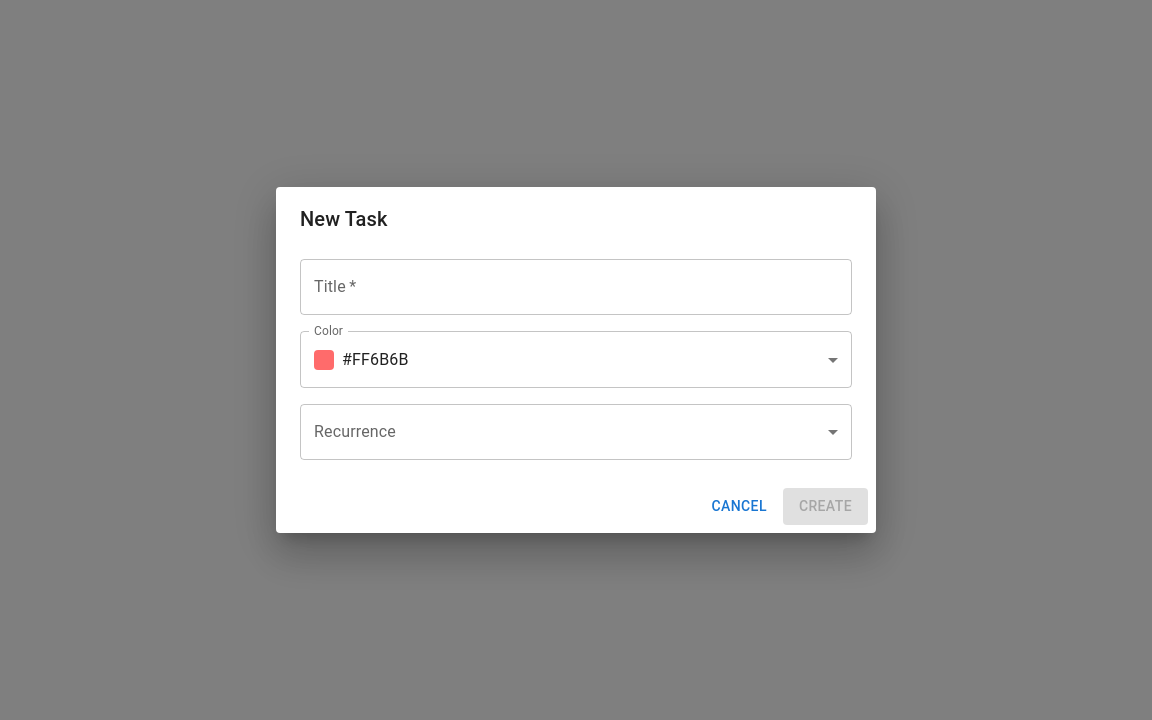
Test: TaskDialog › handles recurrence options correctly
The image size is (1152, 720).
Step 1. Press the mouse on the dropdown named "Recurrence" → (576, 432), box [300,404,852,460]
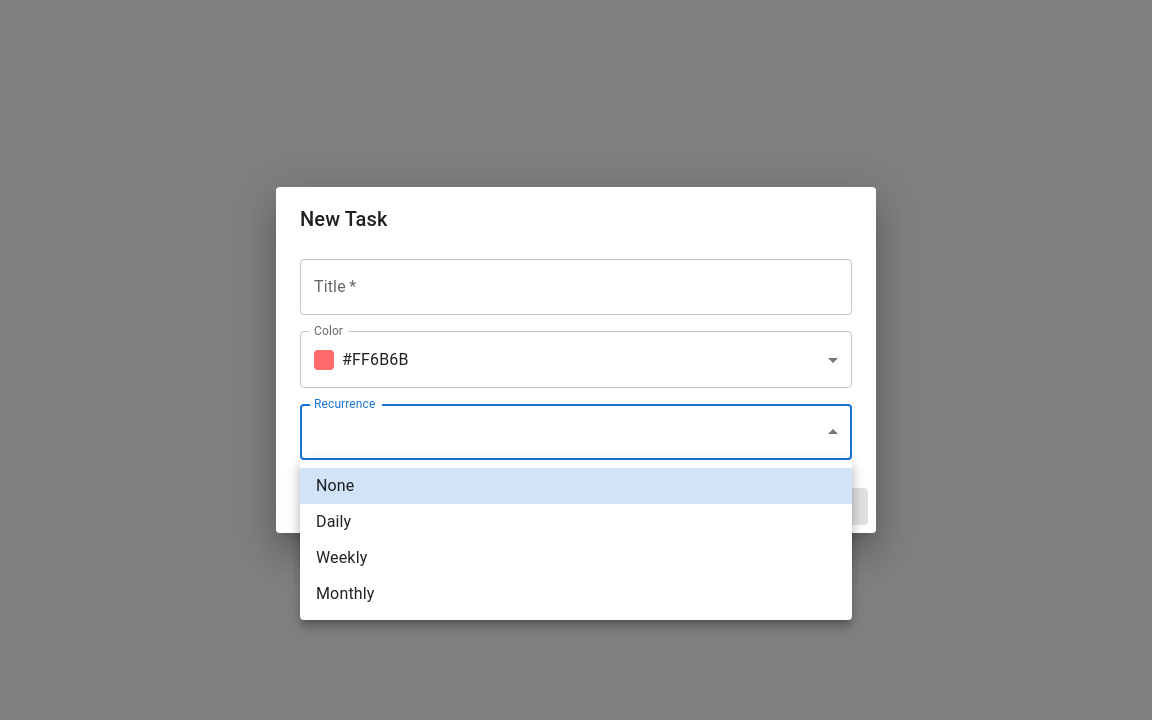
Step 2. Click the option "Weekly" → (342, 558), box [316,548,367,567]
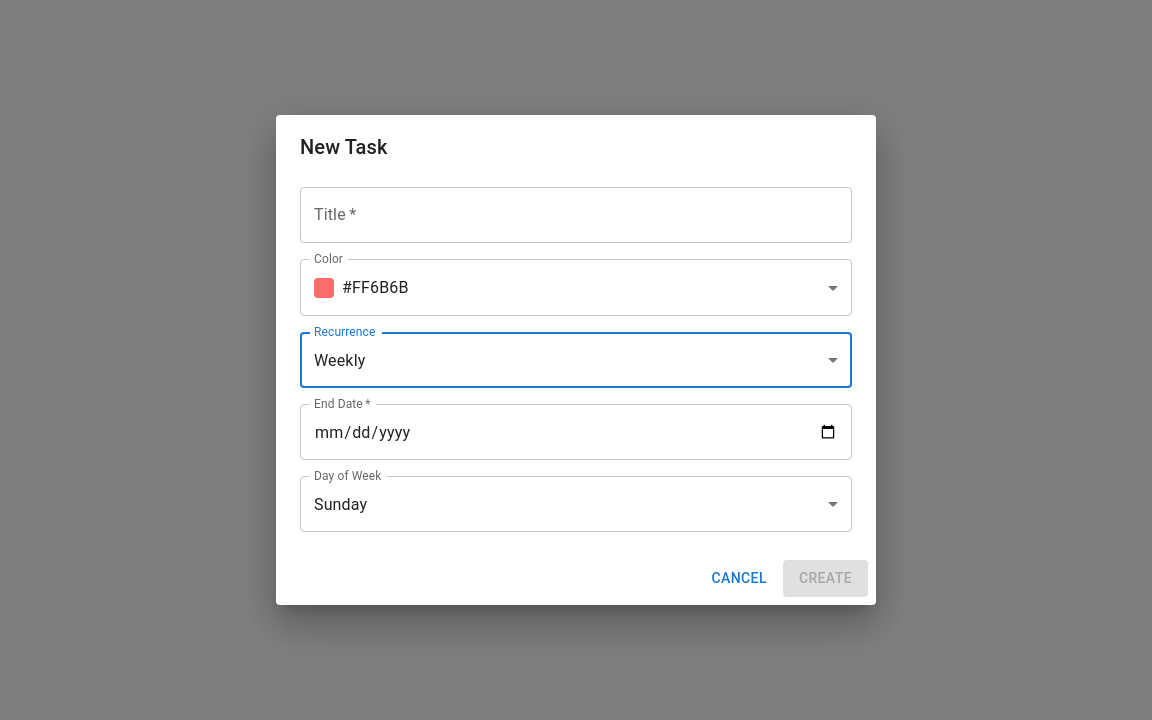
Check: the text "End Date" is shown, box [314,397,363,411]
Check: the dropdown named "Day of Week" is shown, box [314,495,367,514]
